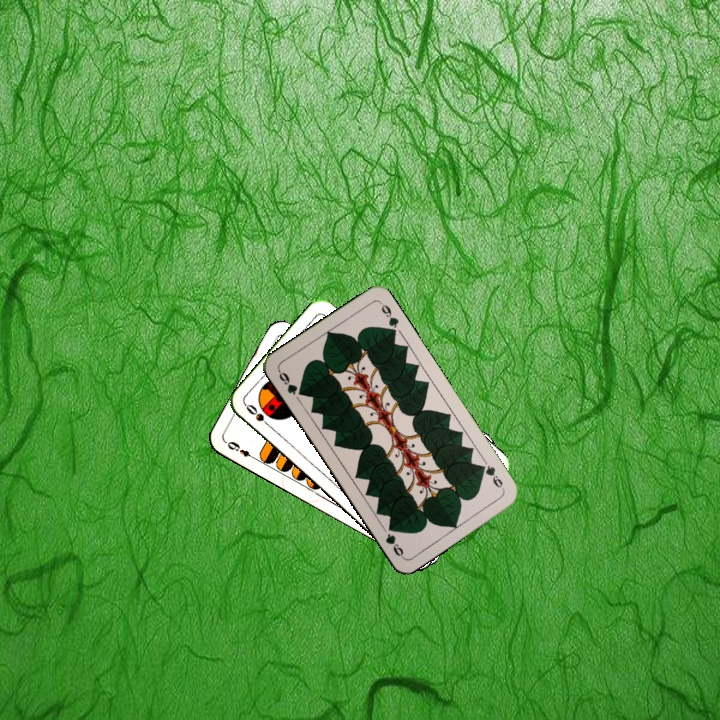E9: (223, 437, 259, 463)
G9: (274, 366, 307, 398), (476, 461, 507, 492)
SO: (242, 400, 275, 432)
